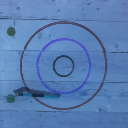Axe Tip: (14, 90, 26, 92)
